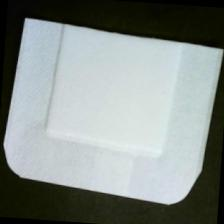Cut: (1, 15, 224, 208)
